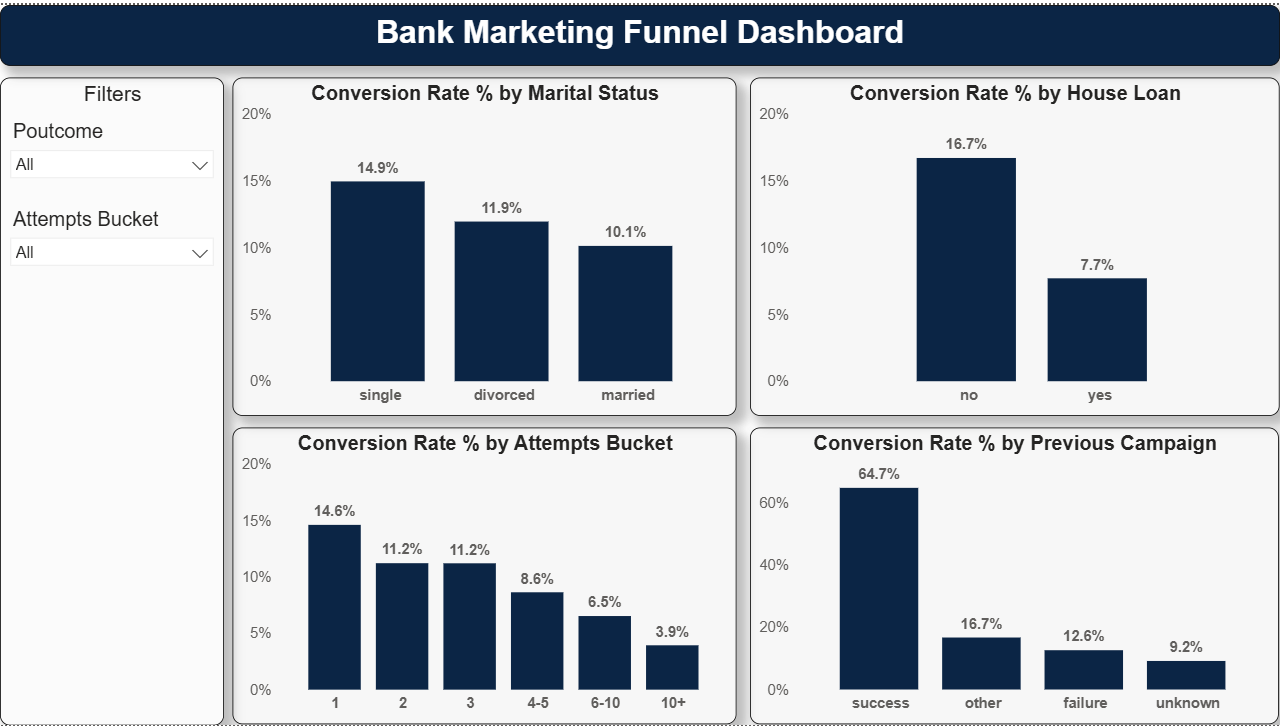

This screenshot's page, from the dashboard's own definition file:
{"tool":"powerbi","page":{"name":"Page 2","canvas":[1280,720],"ordinal":1},"visuals":[{"type":"textbox","box":[0,0,1280.3,61.1],"z":0},{"type":"shape","title":"Filters","box":[0,72.1,223.8,648.1],"z":1},{"type":"slicer","fields":{"Values":["bank-full.poutcome"]},"box":[0,110.1,223.8,79.5],"z":2},{"type":"slicer","fields":{"Values":["bank-full.Attempts Bucket"]},"box":[0,198.1,223.8,86.8],"z":3},{"type":"clusteredColumnChart","title":"Conversion Rate % by Marital Status","fields":{"Category":["bank-full.marital"],"Y":["bank-full.Conversion Rate %"]},"box":[232.3,72.1,503.8,338.7],"z":4},{"type":"clusteredColumnChart","title":"Conversion Rate % by House Loan","fields":{"Y":["bank-full.Conversion Rate %"],"Category":["bank-full.housing"]},"box":[749.6,72.1,529.5,338.7],"z":5},{"type":"clusteredColumnChart","fields":{"Y":["bank-full.Conversion Rate %"],"Category":["bank-full.Attempts Bucket"]},"box":[232.3,423.1,503.8,297.1],"z":6},{"type":"clusteredColumnChart","title":"Conversion Rate % by Previous Campaign","fields":{"Category":["bank-full.poutcome"],"Y":["bank-full.Conversion Rate %"]},"box":[750,423,529,297],"z":7}]}

Visuals, with their boxes in screenshot pixels (x1, y1, x2, y2), scaled from the page's 1280x720 canvas onto the 1280x726 screenshot:
textbox: 0/0/1279/62
"Filters" shape: 0/73/224/725
slicer - bank-full.poutcome: 0/111/224/191
slicer - bank-full.Attempts Bucket: 0/200/224/287
"Conversion Rate % by Marital Status" clusteredColumnChart: 232/73/736/414
"Conversion Rate % by House Loan" clusteredColumnChart: 750/73/1279/414
clusteredColumnChart - bank-full.Conversion Rate % x bank-full.Attempts Bucket: 232/427/736/725
"Conversion Rate % by Previous Campaign" clusteredColumnChart: 750/427/1279/725
